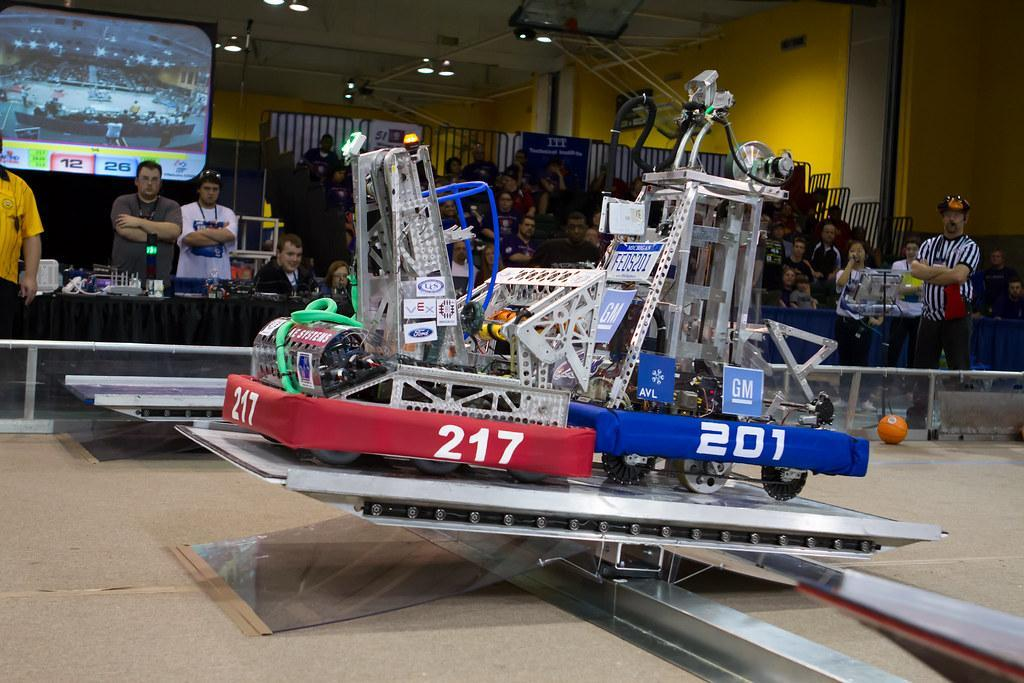robot: (534, 64, 877, 507), (216, 124, 602, 493)
